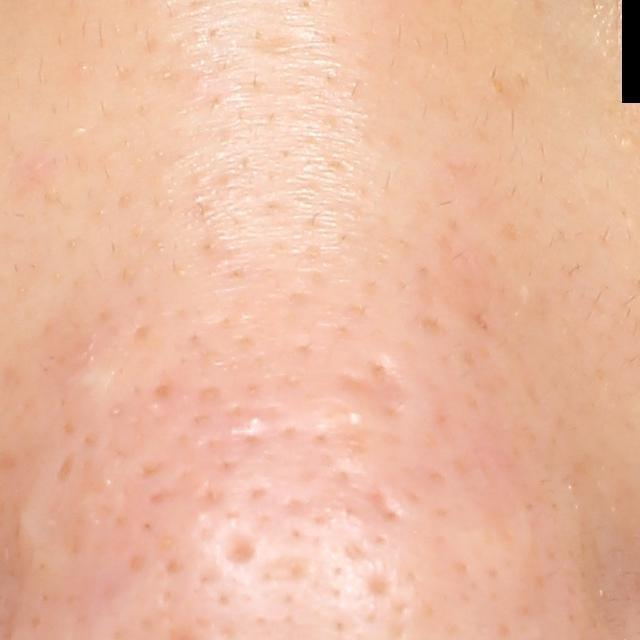atrophic_scar: (328, 348, 419, 424), (238, 23, 325, 62), (218, 524, 268, 576), (372, 484, 411, 526)
hypertrophic_scar: (55, 339, 138, 409)
